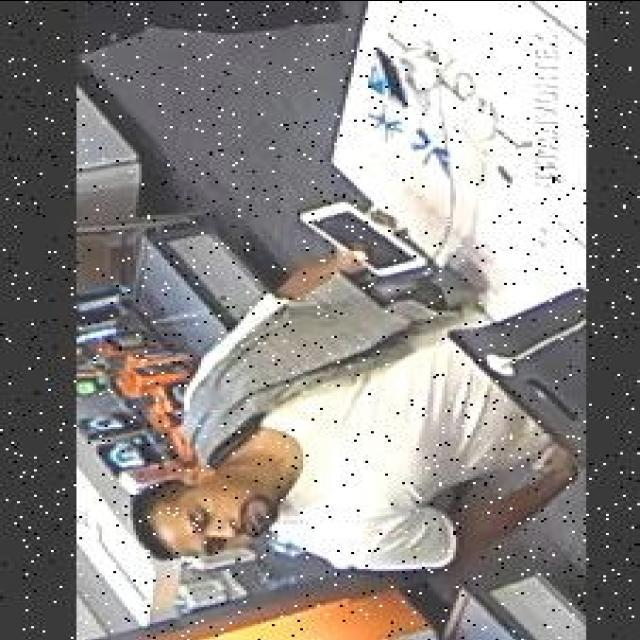Shoplifting: (127, 147, 585, 603)
